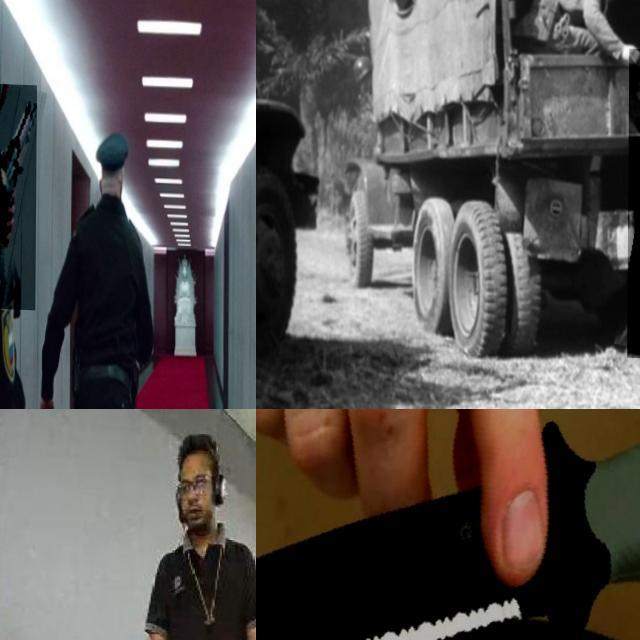-: (256, 409, 640, 640)
gun-knife-thesis - v11 Yolov5 augmented: (0, 82, 37, 309)
